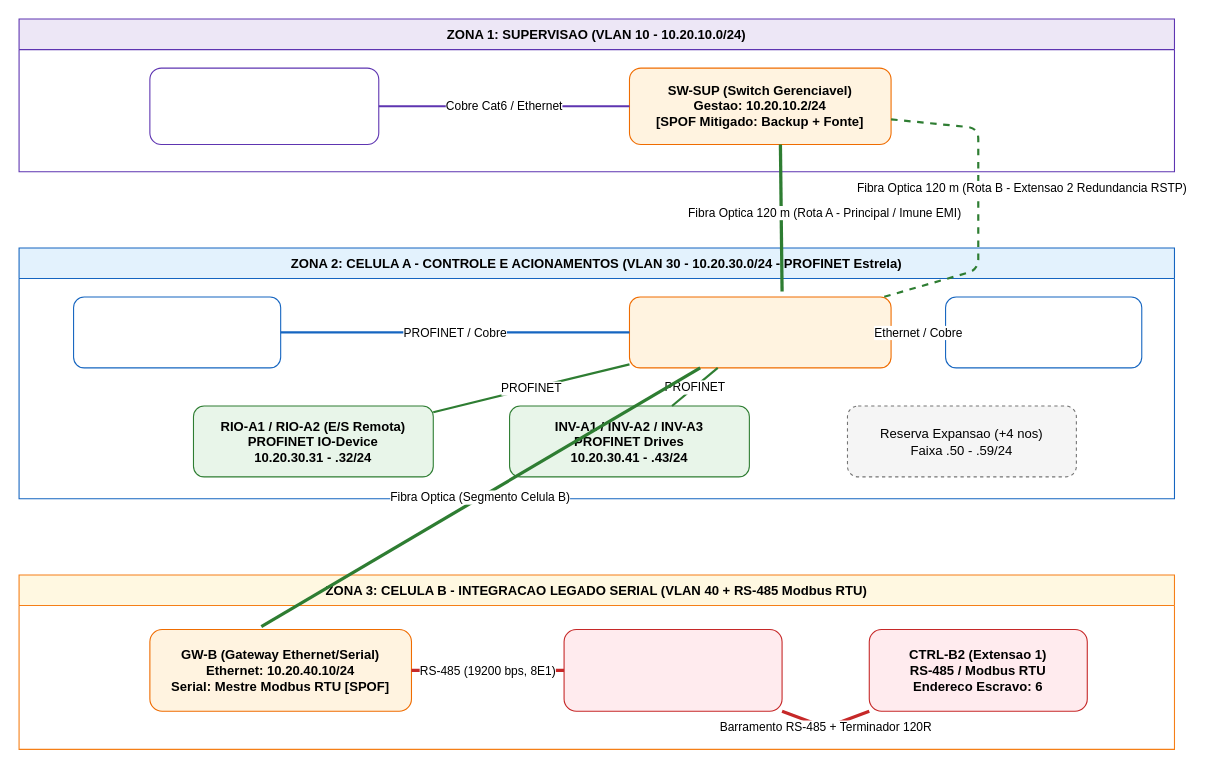
The diagram is 1206 pixels wide and 768 high, and some of its shapes have lost their labels. The shapes that lost their labels are listed below. From the top down, each one's centre as x and y in pixels, then its label:
At (264,105): "SCADA (Servidor) Ethernet TCP/IP 10.20.10.20/24".
At (176,332): "CLP-A (Controlador) PROFINET IO-Controller 10.20.30.10/24".
At (759,332): "SW-A (Switch Industrial) Gestao: 10.20.30.2/24 [SPOF: Fonte Dupla + Reserva]".
At (1043,332): "HMI-A (Operacao Local) Ethernet Industrial 10.20.30.20/24".
At (672,669): "CTRL-B1 (Legado 1) RS-485 / Modbus RTU Endereco Escravo: 5".
